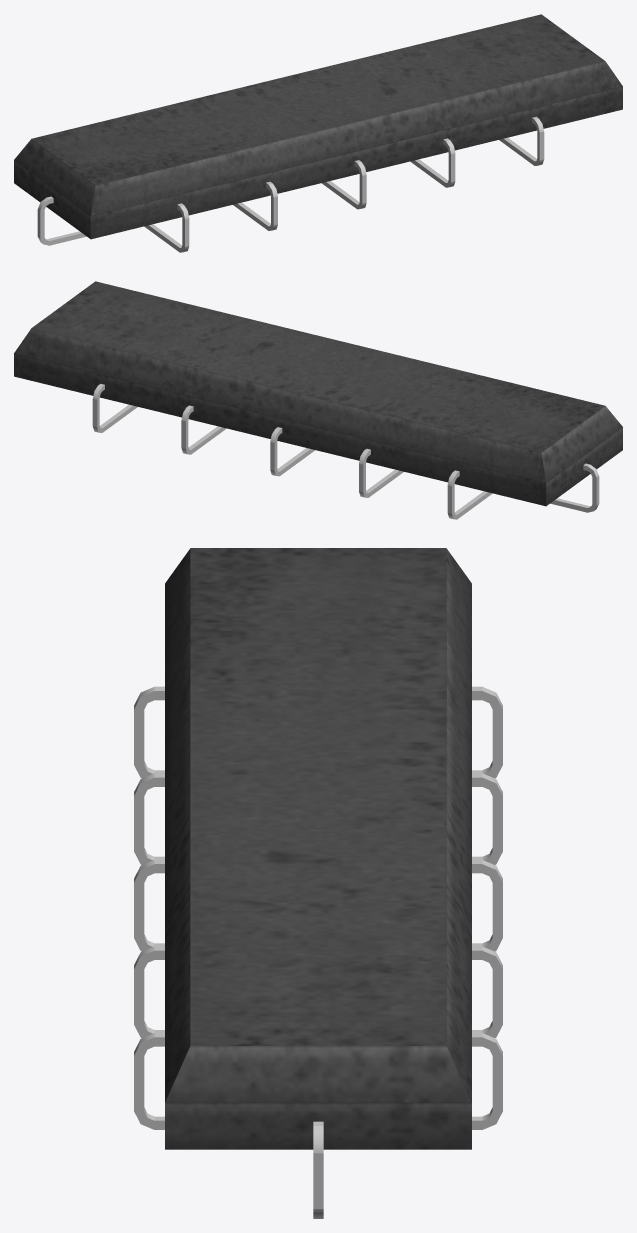
The model's file is ceiling_lamp_4_1_off.obj.
The picture shows the model from 3 angles, top to bottom: view 1: azimuth 30°, elevation 25°; view 2: azimuth 150°, elevation 25°; view 3: azimuth 270°, elevation 25°; orthographic projection. The views are drawn at different scales.
Parts seen in each view (by area): view 1: ceiling_lamp_4_1_off, ceiling_lamp_4_1_off_protector; view 2: ceiling_lamp_4_1_off, ceiling_lamp_4_1_off_protector; view 3: ceiling_lamp_4_1_off, ceiling_lamp_4_1_off_protector.
Boxes of the visible parts, x1,y1,x2,y2 form: ceiling_lamp_4_1_off: (14,14,622,239); ceiling_lamp_4_1_off_protector: (37,116,544,252); ceiling_lamp_4_1_off: (14,281,622,506); ceiling_lamp_4_1_off_protector: (92,383,599,519); ceiling_lamp_4_1_off: (165,548,471,1149); ceiling_lamp_4_1_off_protector: (134,686,502,1218).
Size of the model in its own units: 1.26 by 0.17 by 0.36.
